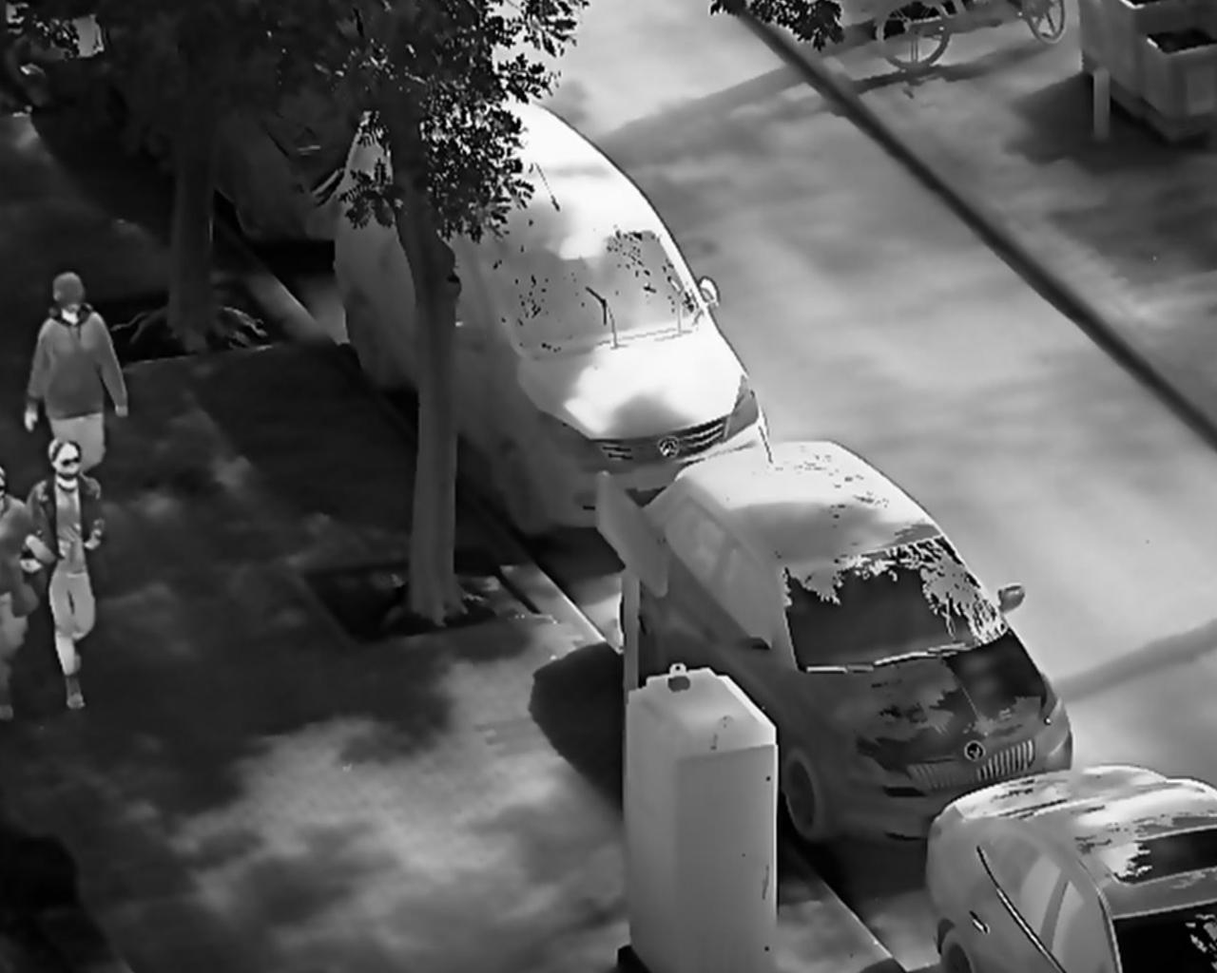person: (20, 273, 132, 480), (28, 435, 110, 714)
